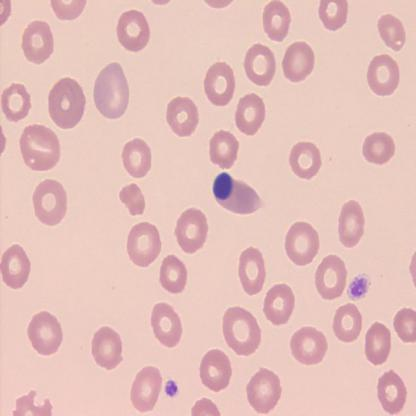NRC: (211, 169, 266, 216)
